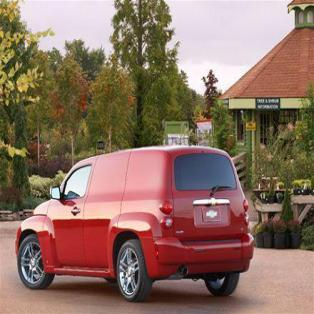Auto: (15, 145, 255, 302)
